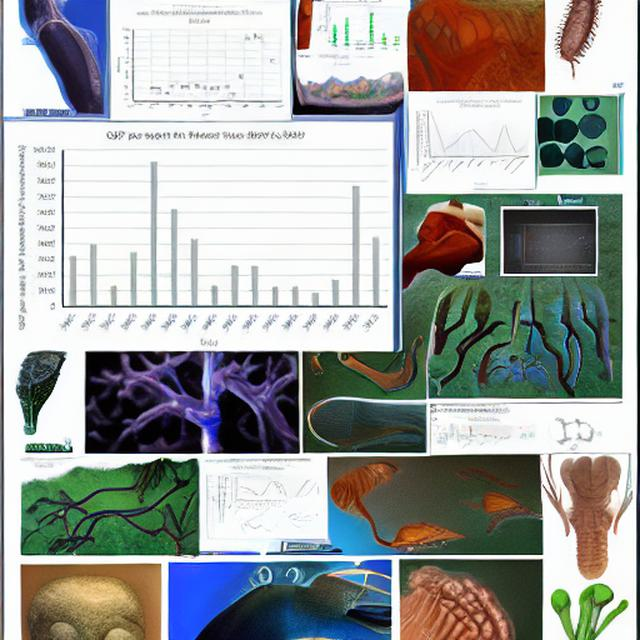Graph: (12, 125, 390, 349), (112, 7, 288, 116), (416, 98, 531, 187), (315, 1, 404, 53), (515, 222, 596, 274), (449, 415, 513, 452), (230, 475, 287, 515)
